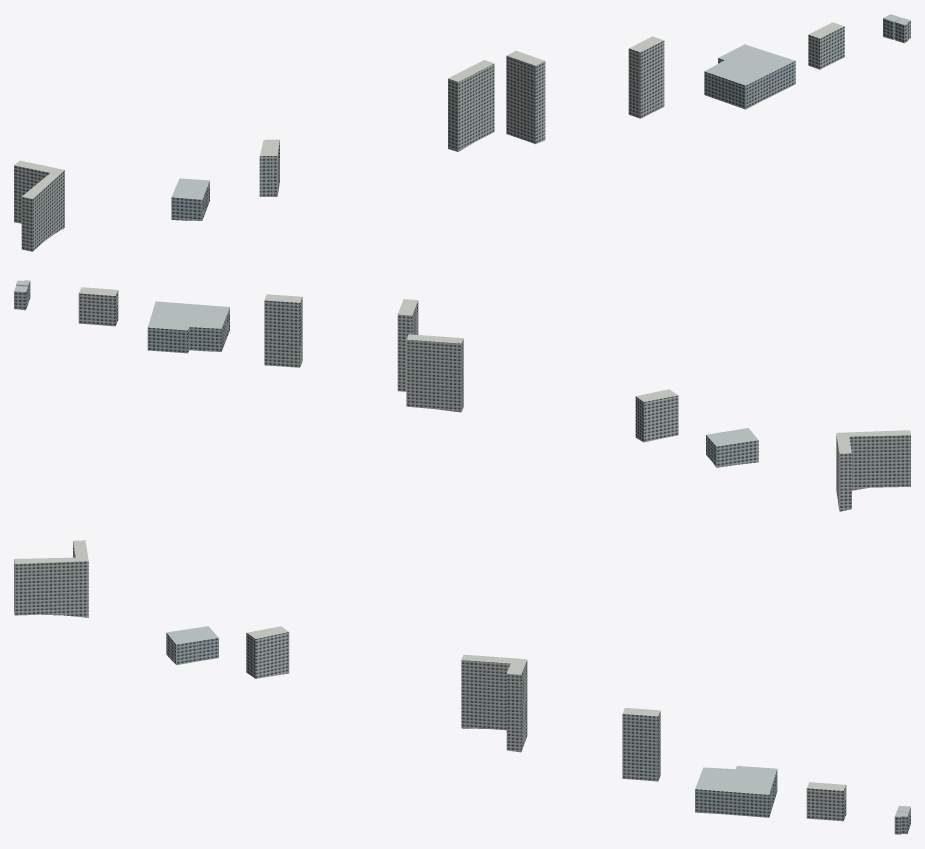
The model's file is city_0_5.glb.
3 views of the same model, one above another, from view 1: azimuth 30°, elevation 25°; view 2: azimuth 150°, elevation 25°; view 3: azimuth 330°, elevation 25° (orthographic). The views are drawn at different scales.
Size of the model in its own units: 854 by 78.39 by 84.44.
Materials: 2 (2 with a texture image).
